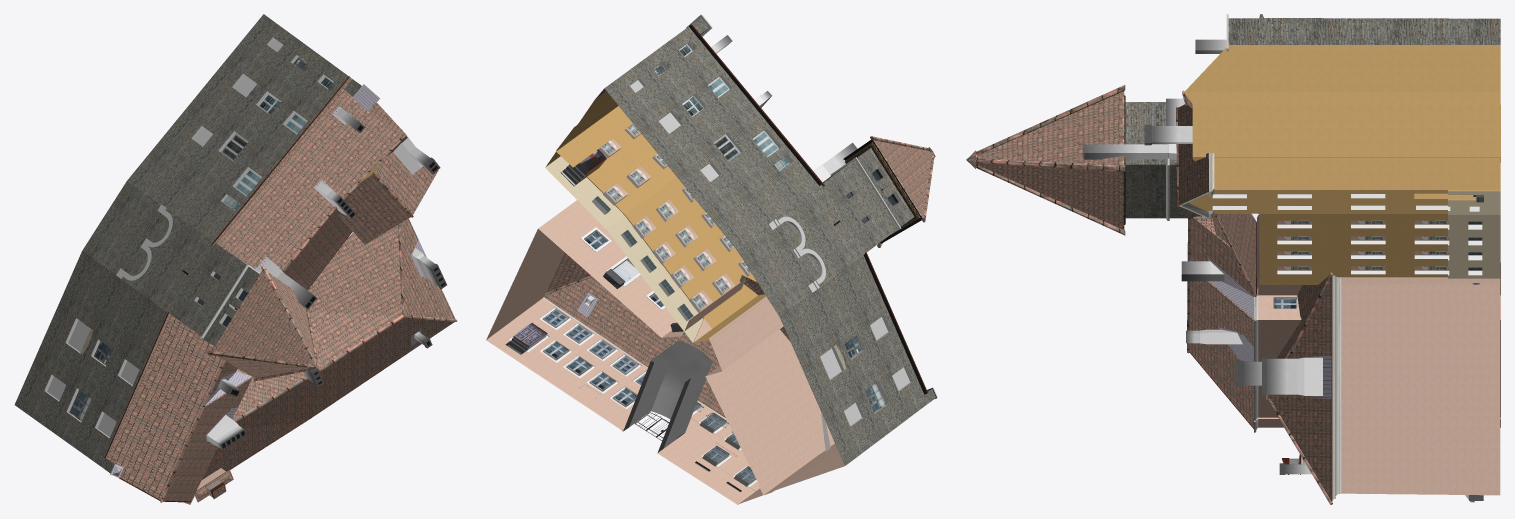
Rendered from Kooli_3.obj.
The picture shows the model from 3 angles, left to right: view 1: azimuth 30°, elevation 25°; view 2: azimuth 150°, elevation 25°; view 3: azimuth 270°, elevation 25°; orthographic projection. The views are drawn at different scales.
Visible parts, largest first — view 1: Kooli_3; view 2: Kooli_3; view 3: Kooli_3.
Boxes of the visible parts, x1=… form: Kooli_3: x1=14, y1=14, x2=457, y2=504; Kooli_3: x1=486, y1=14, x2=937, y2=504; Kooli_3: x1=966, y1=14, x2=1500, y2=504.
Size of the model in its own units: 29.52 by 30.23 by 26.43.
